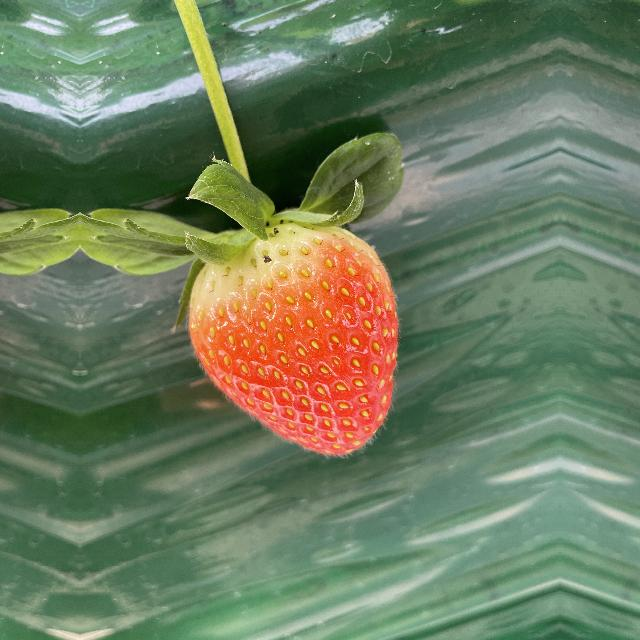Health_100: (180, 212, 402, 473)
